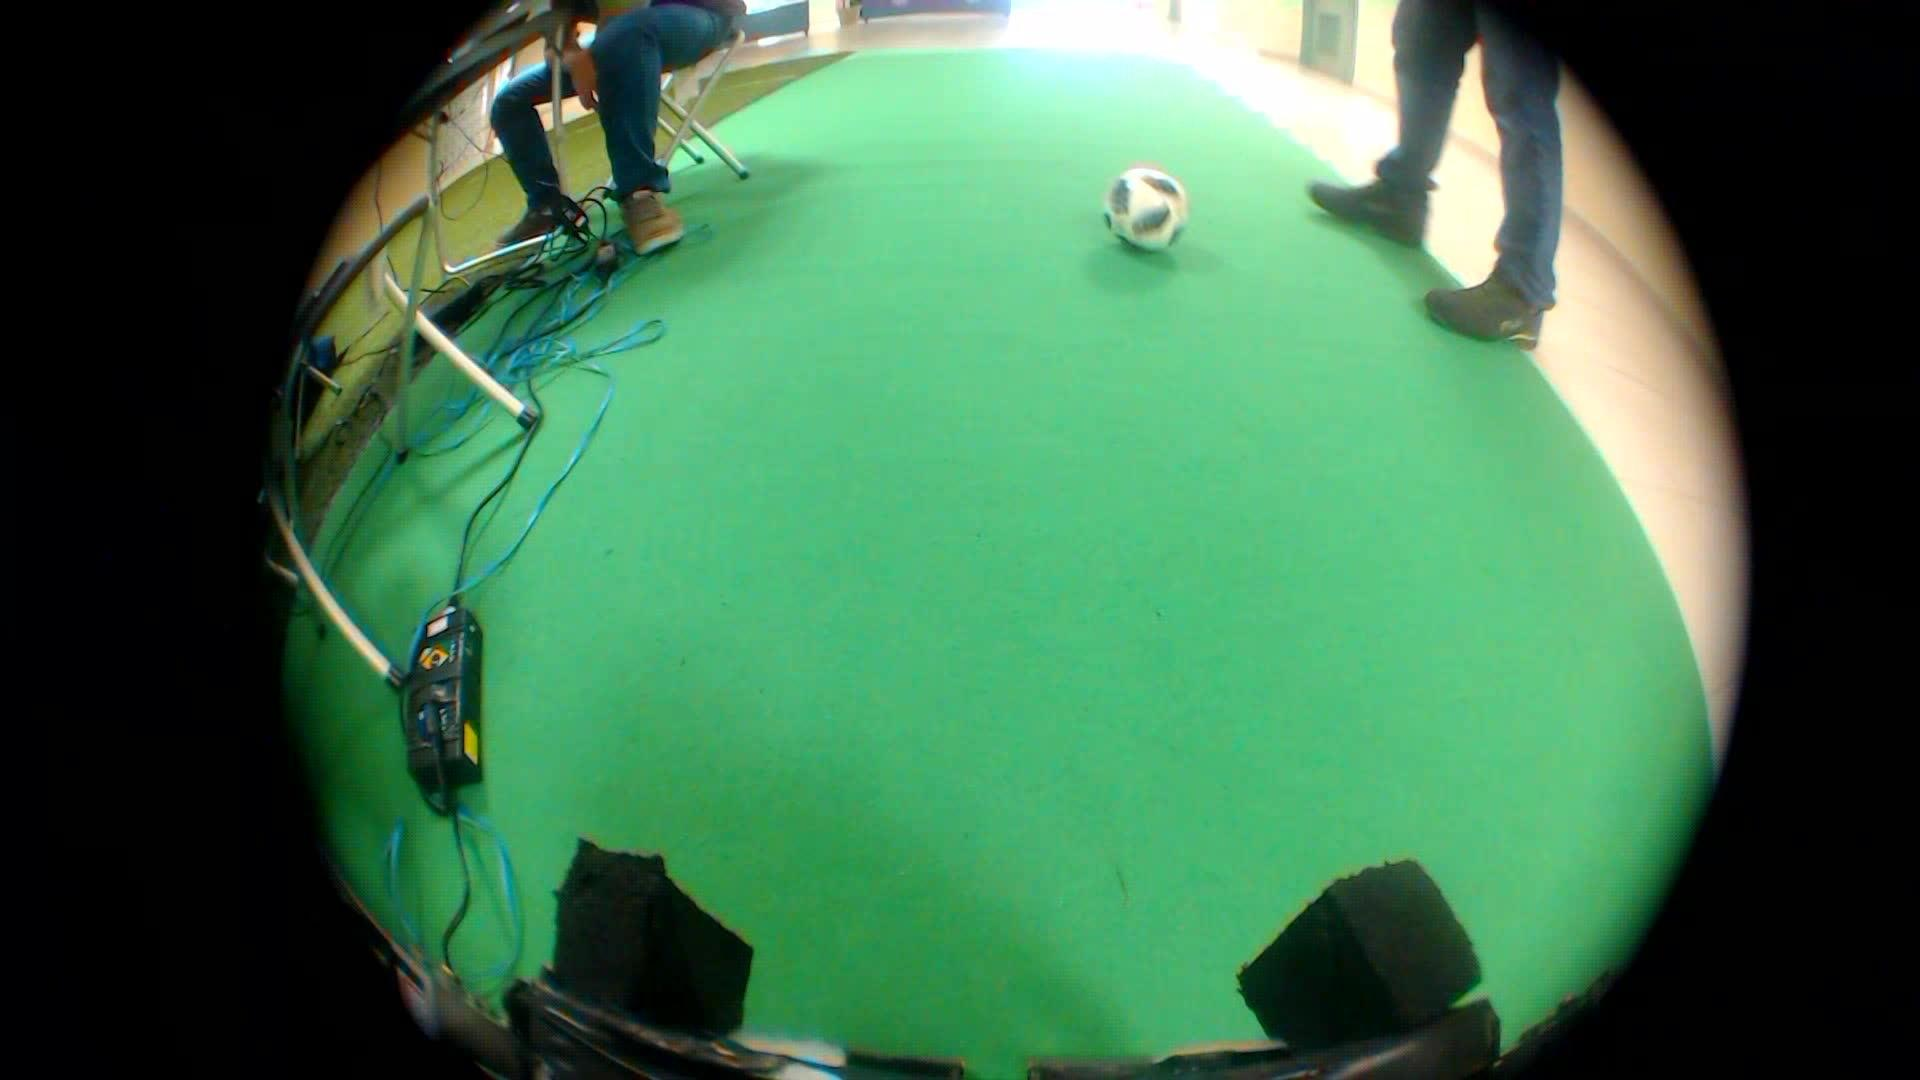ball: (1092, 153, 1197, 256)
